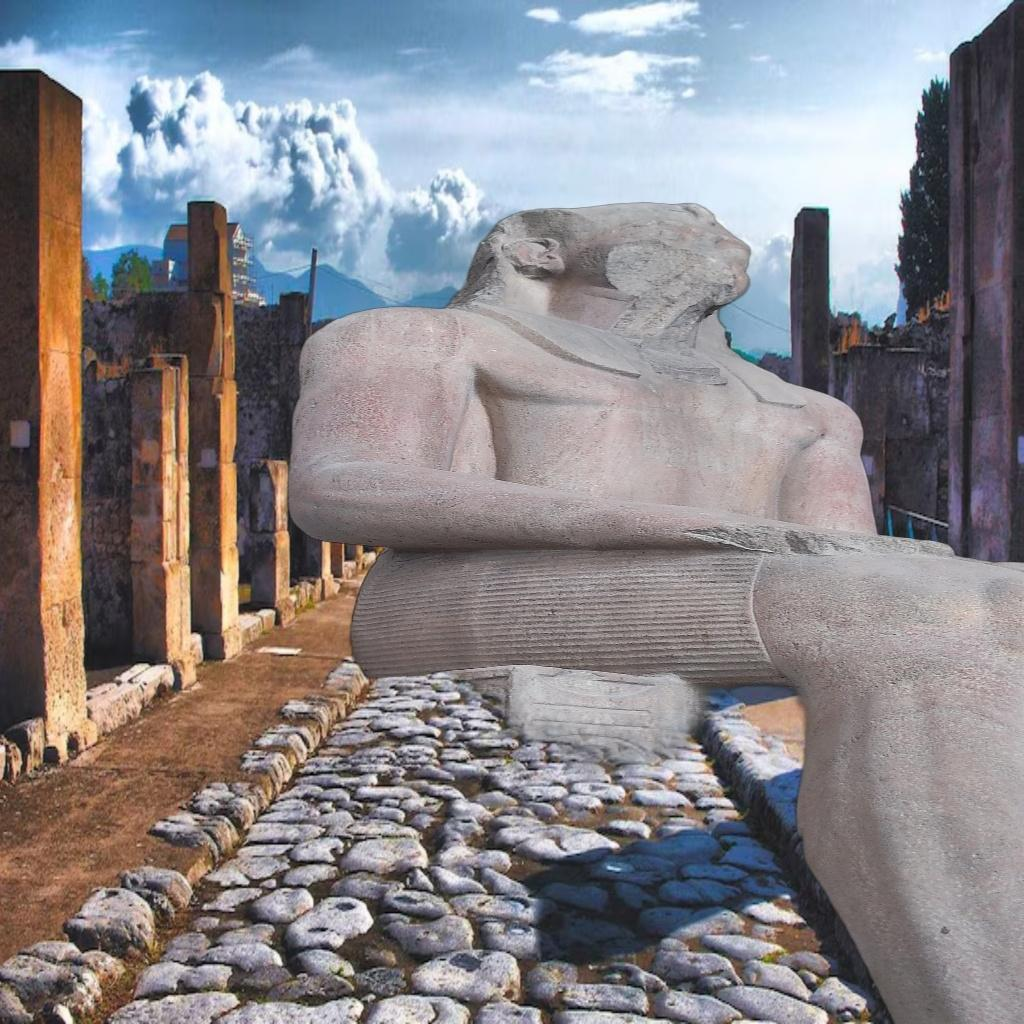Colossal Statue of Middle Kingdom King: (273, 195, 1024, 1024)
